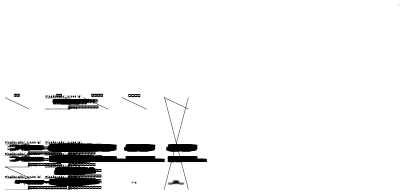room: (23, 1, 25, 2), (65, 86, 66, 87), (65, 1, 66, 2), (23, 38, 25, 38), (23, 26, 25, 26), (65, 38, 66, 38), (65, 26, 66, 26), (65, 14, 66, 14), (175, 9, 175, 9), (174, 9, 175, 9), (175, 9, 176, 9)
wall: (0, 12, 25, 24), (0, 85, 25, 97), (80, 85, 105, 97), (120, 85, 145, 97), (163, 85, 188, 97), (51, 31, 52, 32), (403, 194, 404, 195), (55, 31, 56, 32), (52, 33, 52, 33), (53, 33, 53, 33), (55, 31, 56, 31), (55, 32, 55, 32), (54, 32, 55, 32)
